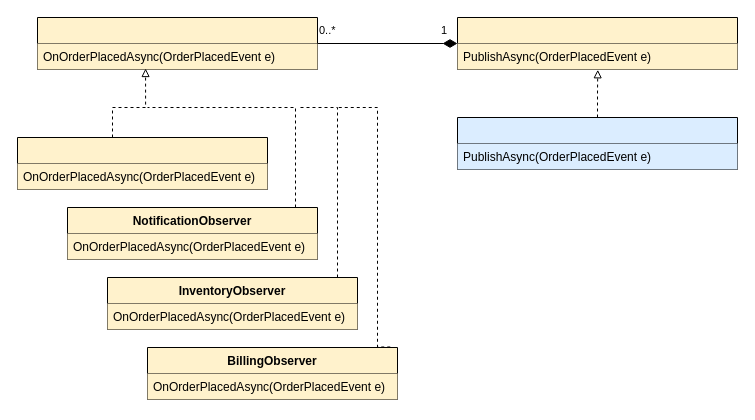
Image size: 755x420. Some labels were removed from this diagram. Here are the shapes that lost their labels. From the top down, the box of each, then its label:
(36, 16, 318, 70): <<IOrderEventObserver>>
(456, 16, 738, 70): OrderEventPublisher
(16, 136, 268, 190): KitchenObserver
(456, 116, 738, 170): OrderEventPublisher(Concrete)
